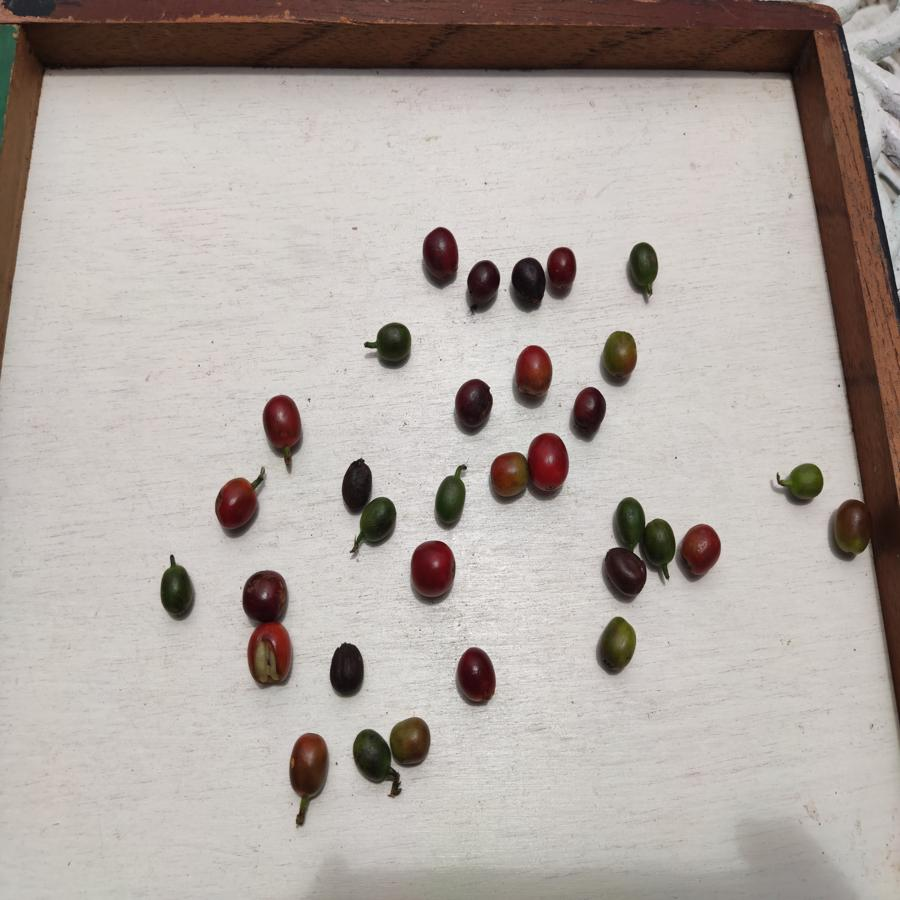Inmaduro: (351, 727, 391, 787), (157, 564, 196, 618), (358, 495, 397, 548), (776, 460, 825, 502), (374, 322, 414, 369), (639, 516, 675, 567), (626, 239, 661, 290), (433, 474, 467, 525), (613, 496, 644, 548)
Maduro: (244, 624, 295, 684), (410, 539, 458, 600), (529, 431, 570, 496), (260, 395, 305, 451), (213, 478, 257, 534), (681, 523, 722, 578), (513, 346, 554, 398)
Pinton: (287, 731, 330, 799), (829, 499, 871, 563), (599, 617, 638, 673), (390, 715, 431, 768), (598, 331, 639, 383), (490, 450, 528, 501)
Sobremaduro: (242, 570, 290, 622), (458, 643, 496, 704), (454, 378, 493, 431), (422, 227, 460, 281), (327, 641, 365, 695), (603, 548, 646, 595), (465, 259, 503, 310), (510, 254, 548, 304), (573, 386, 606, 434), (340, 459, 369, 511), (546, 248, 578, 288)
